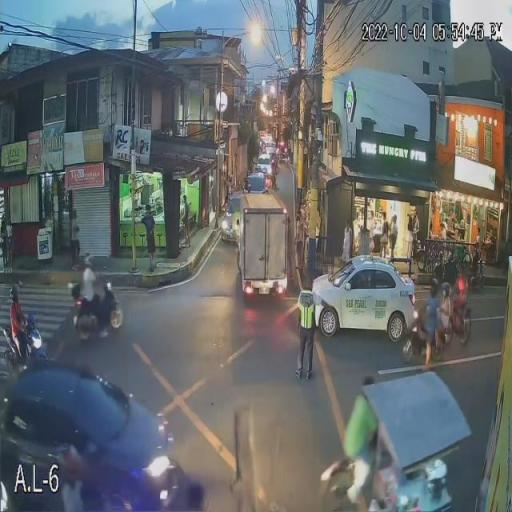helmet: (81, 256, 98, 270), (428, 278, 440, 296), (9, 286, 21, 302), (441, 283, 450, 298)
motorcycle: (318, 453, 451, 512), (67, 279, 123, 342), (400, 309, 454, 362), (0, 312, 50, 369), (440, 292, 474, 349)
rider: (342, 390, 378, 490), (418, 281, 446, 352), (78, 257, 106, 322), (10, 282, 35, 343), (447, 260, 469, 325)
